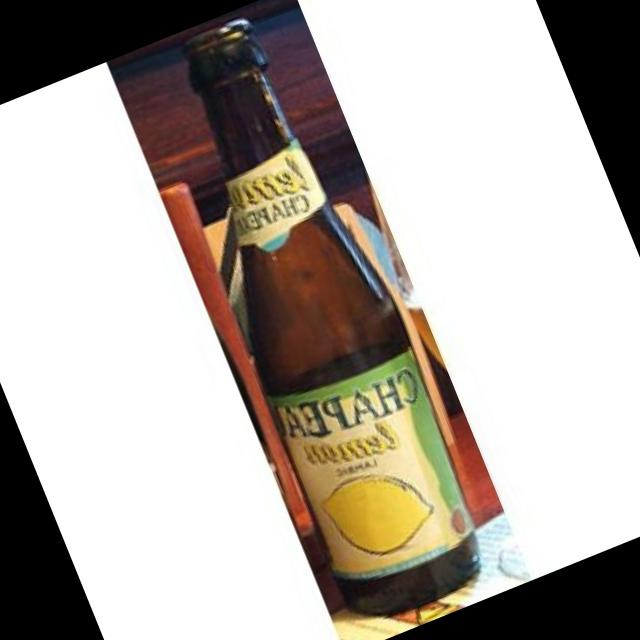BotolKaca: (123, 0, 512, 633)
